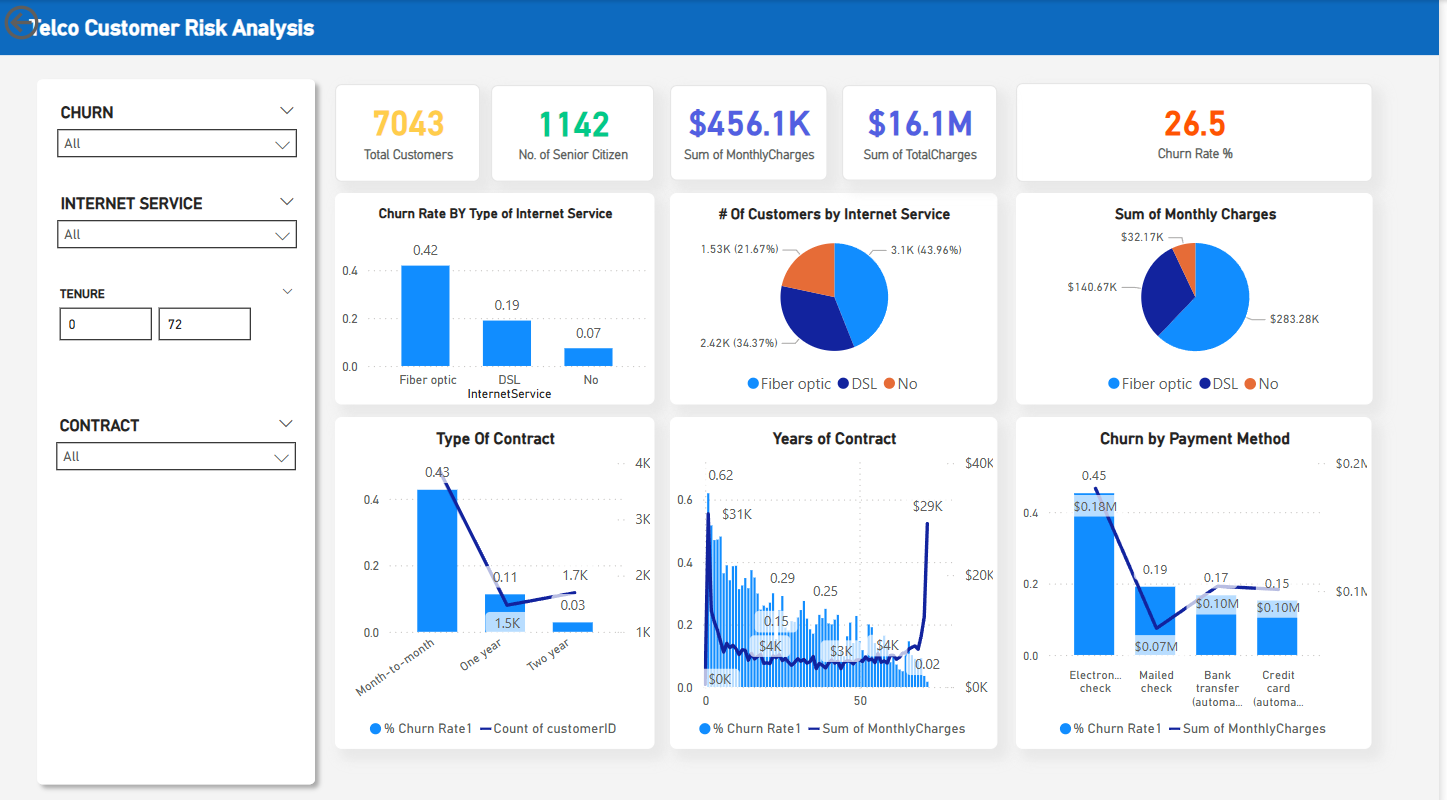

The dashboard page shown, as its layout file describes it:
{"tool":"powerbi","page":{"name":"Customer Risk Analysis","canvas":[1280,720],"ordinal":1},"visuals":[{"type":"shape","box":[0,0,1280,49],"z":0},{"type":"textbox","box":[21,8,438,33],"z":1000},{"type":"shape","box":[25,61,265,645],"z":2000},{"type":"slicer","fields":{"Values":["Telco.Churn"]},"box":[42,82,233,81],"z":3000},{"type":"slicer","fields":{"Values":["Telco.InternetService"]},"box":[42,163,233,81],"z":4000},{"type":"slicer","fields":{"Values":["Telco.tenure"]},"box":[41,244,233,97],"z":5000},{"type":"slicer","fields":{"Values":["Telco.Contract"]},"box":[41,360,233,81],"z":6000},{"type":"card","fields":{"Values":["CountNonNull(Telco.customerID)"]},"box":[298.3,74.6,128.8,87],"z":7000},{"type":"card","fields":{"Values":["Telco-Customer-Churn - Cleaned.Churn Rate"]},"box":[904,73.8,317.3,88],"z":8000},{"type":"card","fields":{"Values":["Sum(Telco-Customer-Churn - Cleaned.SeniorCitizen)"]},"box":[437.3,75.6,144.9,86.2],"z":10000},{"type":"card","fields":{"Values":["Sum(Telco.MonthlyCharges)"]},"box":[596.4,75.6,139.6,85.3],"z":11000},{"type":"columnChart","title":"Churn Rate BY Type of Internet Service","fields":{"Y":["Telco-Customer-Churn - Cleaned.% Churn Rate1"],"Category":["Telco-Customer-Churn - Cleaned.InternetService"]},"box":[298.7,171.6,283.6,187.6],"z":12000},{"type":"pieChart","title":"# Of Customers by Internet Service","fields":{"Y":["CountNonNull(Telco-Customer-Churn - Cleaned.customerID)"],"Category":["Telco-Customer-Churn - Cleaned.InternetService"]},"box":[596.4,171.6,290.7,187.6],"z":13000},{"type":"pieChart","title":"Sum of Monthly Charges","fields":{"Category":["Telco-Customer-Churn - Cleaned.InternetService"],"Y":["Sum(Telco-Customer-Churn - Cleaned.MonthlyCharges)"]},"box":[904,171.6,317.3,187.6],"z":14000},{"type":"lineStackedColumnComboChart","title":"Type Of Contract","fields":{"Y2":["CountNonNull(Telco-Customer-Churn - Cleaned.customerID)"],"Y":["Telco-Customer-Churn - Cleaned.% Churn Rate1"],"Category":["Telco-Customer-Churn - Cleaned.Contract"]},"box":[298.7,370.7,283.6,295.1],"z":15000},{"type":"lineStackedColumnComboChart","title":"Years of Contract","fields":{"Y":["Telco-Customer-Churn - Cleaned.% Churn Rate1"],"Y2":["Sum(Telco-Customer-Churn - Cleaned.MonthlyCharges)"],"Category":["Telco-Customer-Churn - Cleaned.tenure"]},"box":[596.4,370.7,290.7,295.1],"z":16000},{"type":"lineStackedColumnComboChart","title":"Churn by Payment Method","fields":{"Y":["Telco-Customer-Churn - Cleaned.% Churn Rate1"],"Category":["Telco-Customer-Churn - Cleaned.PaymentMethod"],"Y2":["Sum(Telco.MonthlyCharges)"]},"box":[904,370.7,316.4,295.1],"z":17000},{"type":"card","fields":{"Values":["Sum(Telco.TotalCharges)"]},"box":[749.3,75.6,137.8,85.3],"z":17001},{"type":"actionButton","box":[0,0,100,40],"z":17002}]}

Visuals, with their boxes in screenshot pixels (x1, y1, x2, y2), scaled from the page's 1280x720 canvas onto the 1447x800 screenshot:
shape: locate(0, 0, 1446, 54)
textbox: locate(24, 9, 519, 46)
shape: locate(28, 68, 328, 784)
slicer - Telco.Churn: locate(47, 91, 311, 181)
slicer - Telco.InternetService: locate(47, 181, 311, 271)
slicer - Telco.tenure: locate(46, 271, 310, 379)
slicer - Telco.Contract: locate(46, 400, 310, 490)
card - CountNonNull(Telco.customerID): locate(337, 83, 483, 180)
card - Telco-Customer-Churn - Cleaned.Churn Rate: locate(1022, 82, 1381, 180)
card - Sum(Telco-Customer-Churn - Cleaned.SeniorCitizen): locate(494, 84, 658, 180)
card - Sum(Telco.MonthlyCharges): locate(674, 84, 832, 179)
"Churn Rate BY Type of Internet Service" columnChart: locate(338, 191, 658, 399)
"# Of Customers by Internet Service" pieChart: locate(674, 191, 1003, 399)
"Sum of Monthly Charges" pieChart: locate(1022, 191, 1381, 399)
"Type Of Contract" lineStackedColumnComboChart: locate(338, 412, 658, 740)
"Years of Contract" lineStackedColumnComboChart: locate(674, 412, 1003, 740)
"Churn by Payment Method" lineStackedColumnComboChart: locate(1022, 412, 1380, 740)
card - Sum(Telco.TotalCharges): locate(847, 84, 1003, 179)
actionButton: locate(0, 0, 113, 44)
